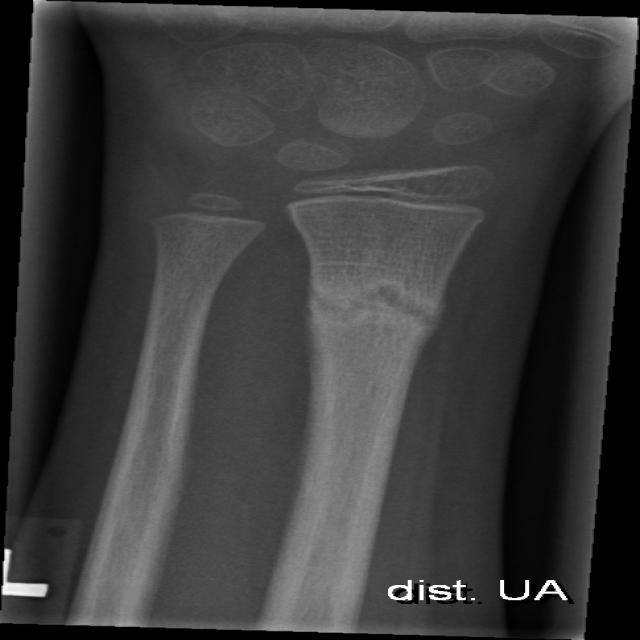radius fracture: (292, 250, 466, 400)
